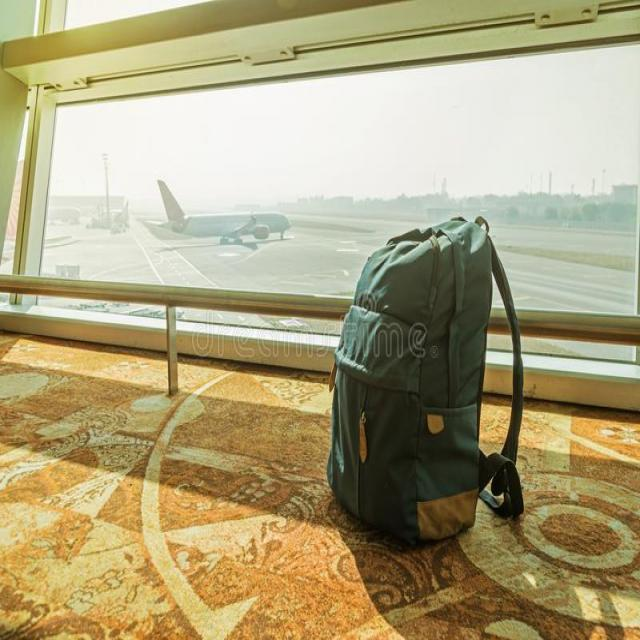Backpacks: (325, 209, 494, 549)
